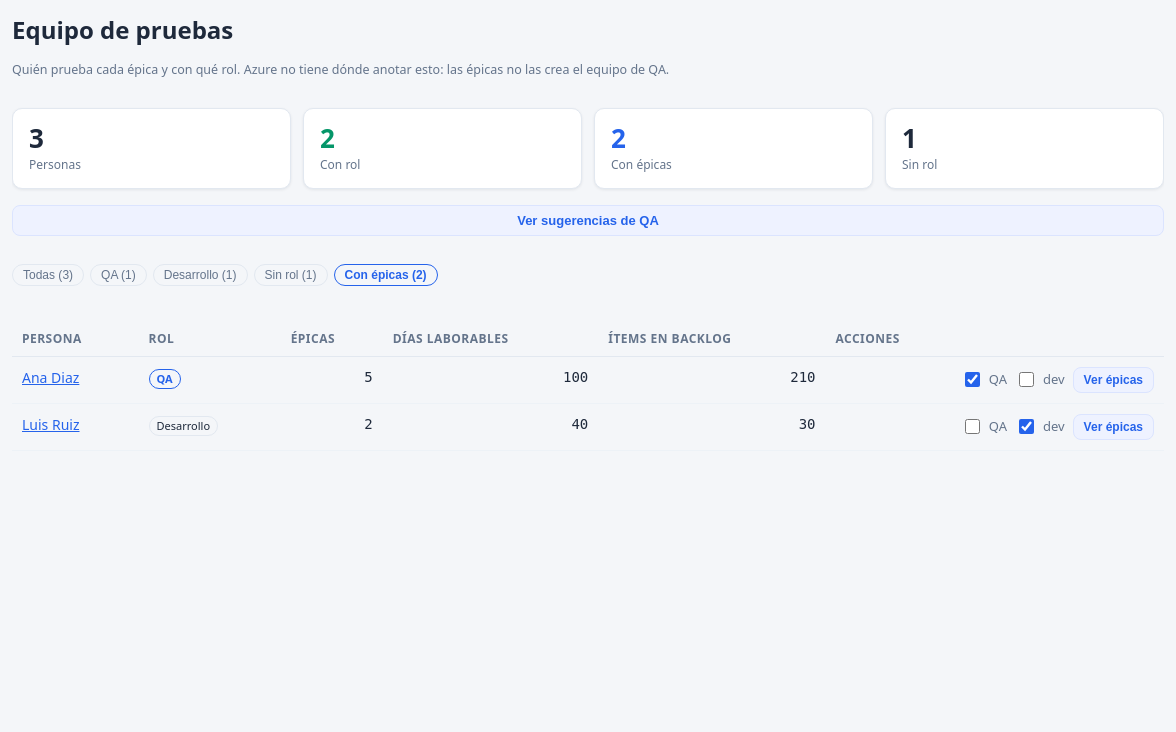
Test case: la sugerencia de QA › se ofrece solo quien no está ya marcado
The image size is (1176, 732).
Expected: the button "Ana Diaz" is shown, [22,367,79,388]
Click the button "Ver sugerencias de QA" at [588, 220], box [12,205,1164,236]
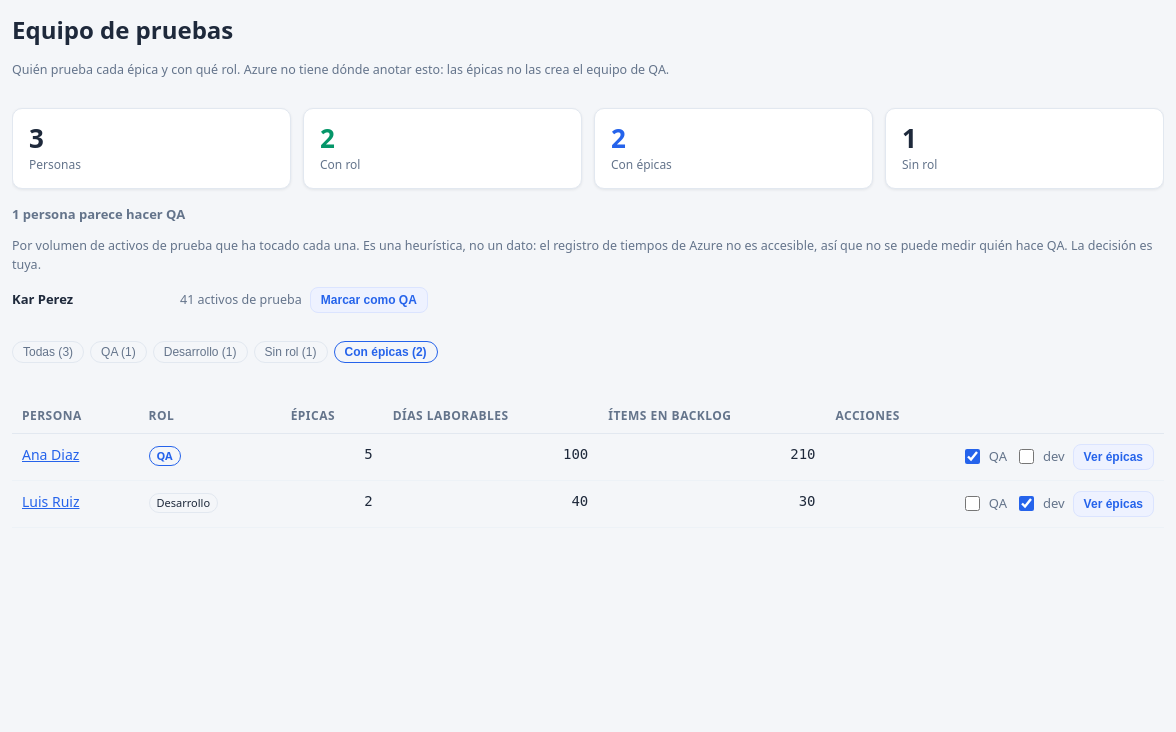
Expected: the number of buttons "Marcar como QA" is 1, [310,287,428,313]
Now the element named "Sugerencias" shows "Kar Perez", box [12,290,73,308]
Now the button "Marcar como QA" is shown, box [310,287,428,313]
